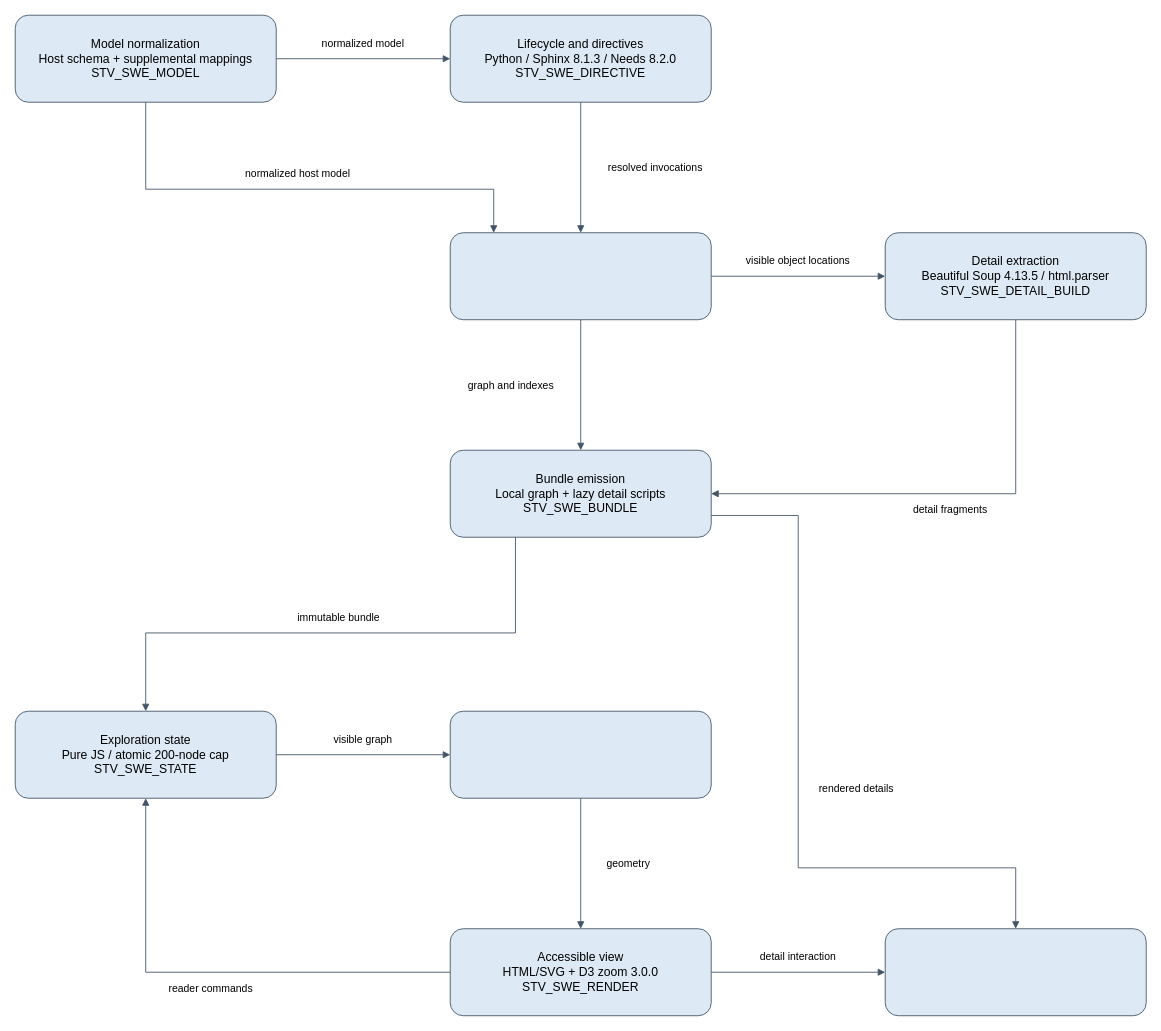
Image size: 1161x1031. Some labels were removed from this diagram. Here are the shapes that lost their labels. From the top down, the centre of each, then its label:
point (580, 276): Graph adapter Pinned NeedsView / canonical indexes STV_SWE_GRAPH
point (580, 754): Semantic layout ELK.js 0.10.0 + STV constraints STV_SWE_LAYOUT
point (1015, 972): Object inspection Floating UI DOM 1.7.4 STV_SWE_INSPECT
